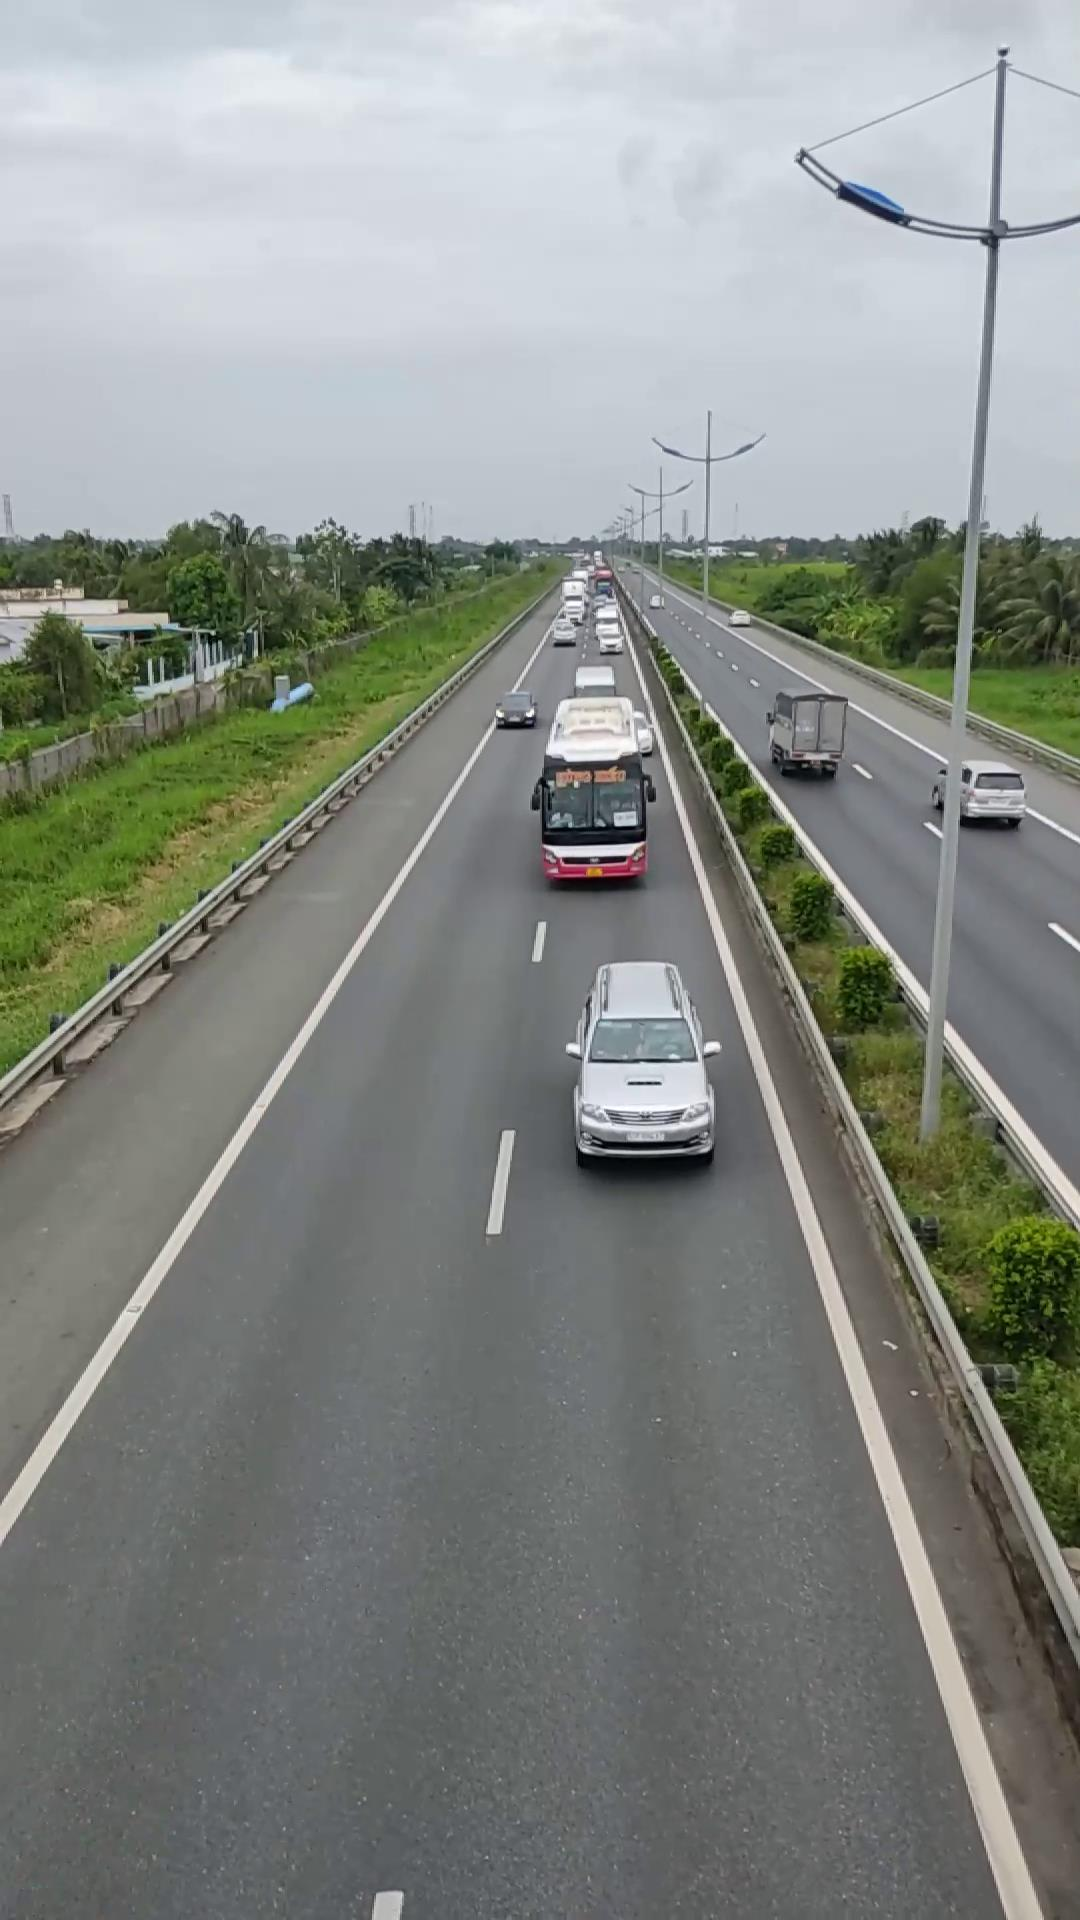bus: (533, 698, 658, 890)
car: (564, 957, 719, 1164), (936, 756, 1029, 827)
truck: (765, 682, 849, 777)
